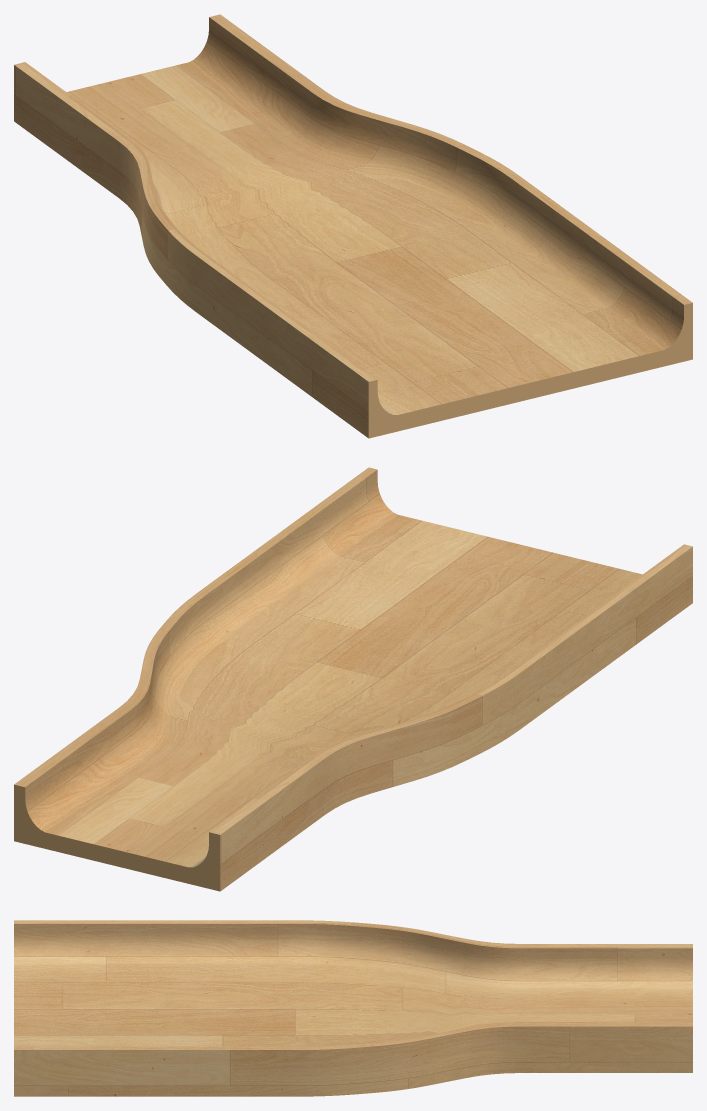
File: Road.fbx
3 views of the same model, one above another, from view 1: azimuth 30°, elevation 25°; view 2: azimuth 150°, elevation 25°; view 3: azimuth 270°, elevation 25° (orthographic). The views are drawn at different scales.
Parts seen in each view (by area): view 1: wideRoad; view 2: wideRoad; view 3: wideRoad.
Part boxes in pixels (left/top/right/bottom): wideRoad: left=14, top=14, right=692, bottom=438; wideRoad: left=14, top=467, right=692, bottom=891; wideRoad: left=14, top=920, right=692, bottom=1096.
Bounding box in the file's own units: 844 × 141 × 1866.
